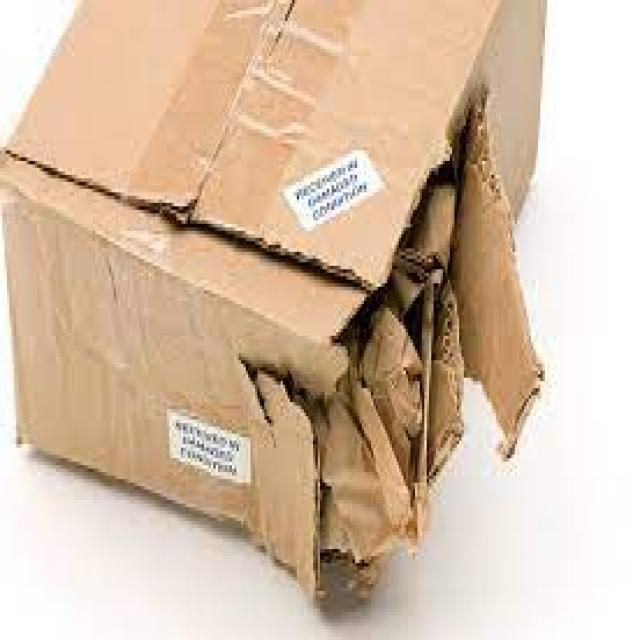Kardus kondisi rusak: (1, 1, 550, 603)
